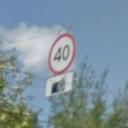speed_limit_40: (47, 32, 78, 77)
